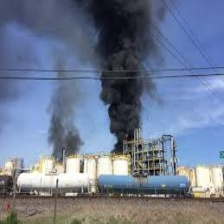smoke: (93, 3, 151, 145), (49, 76, 82, 156)
